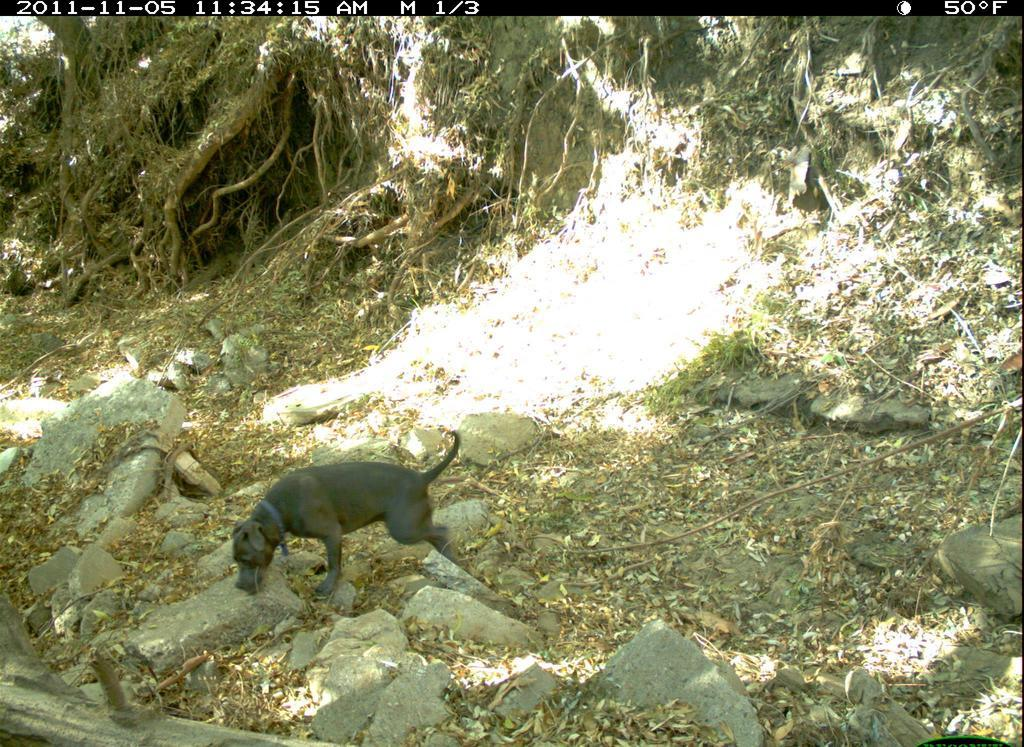dog: (223, 418, 469, 611)
